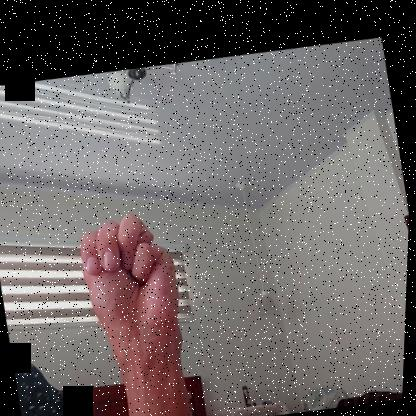M: (72, 198, 192, 348)
